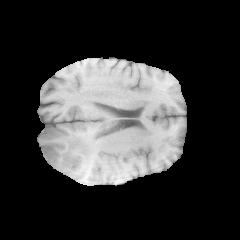glioma: (42, 124, 113, 177)
